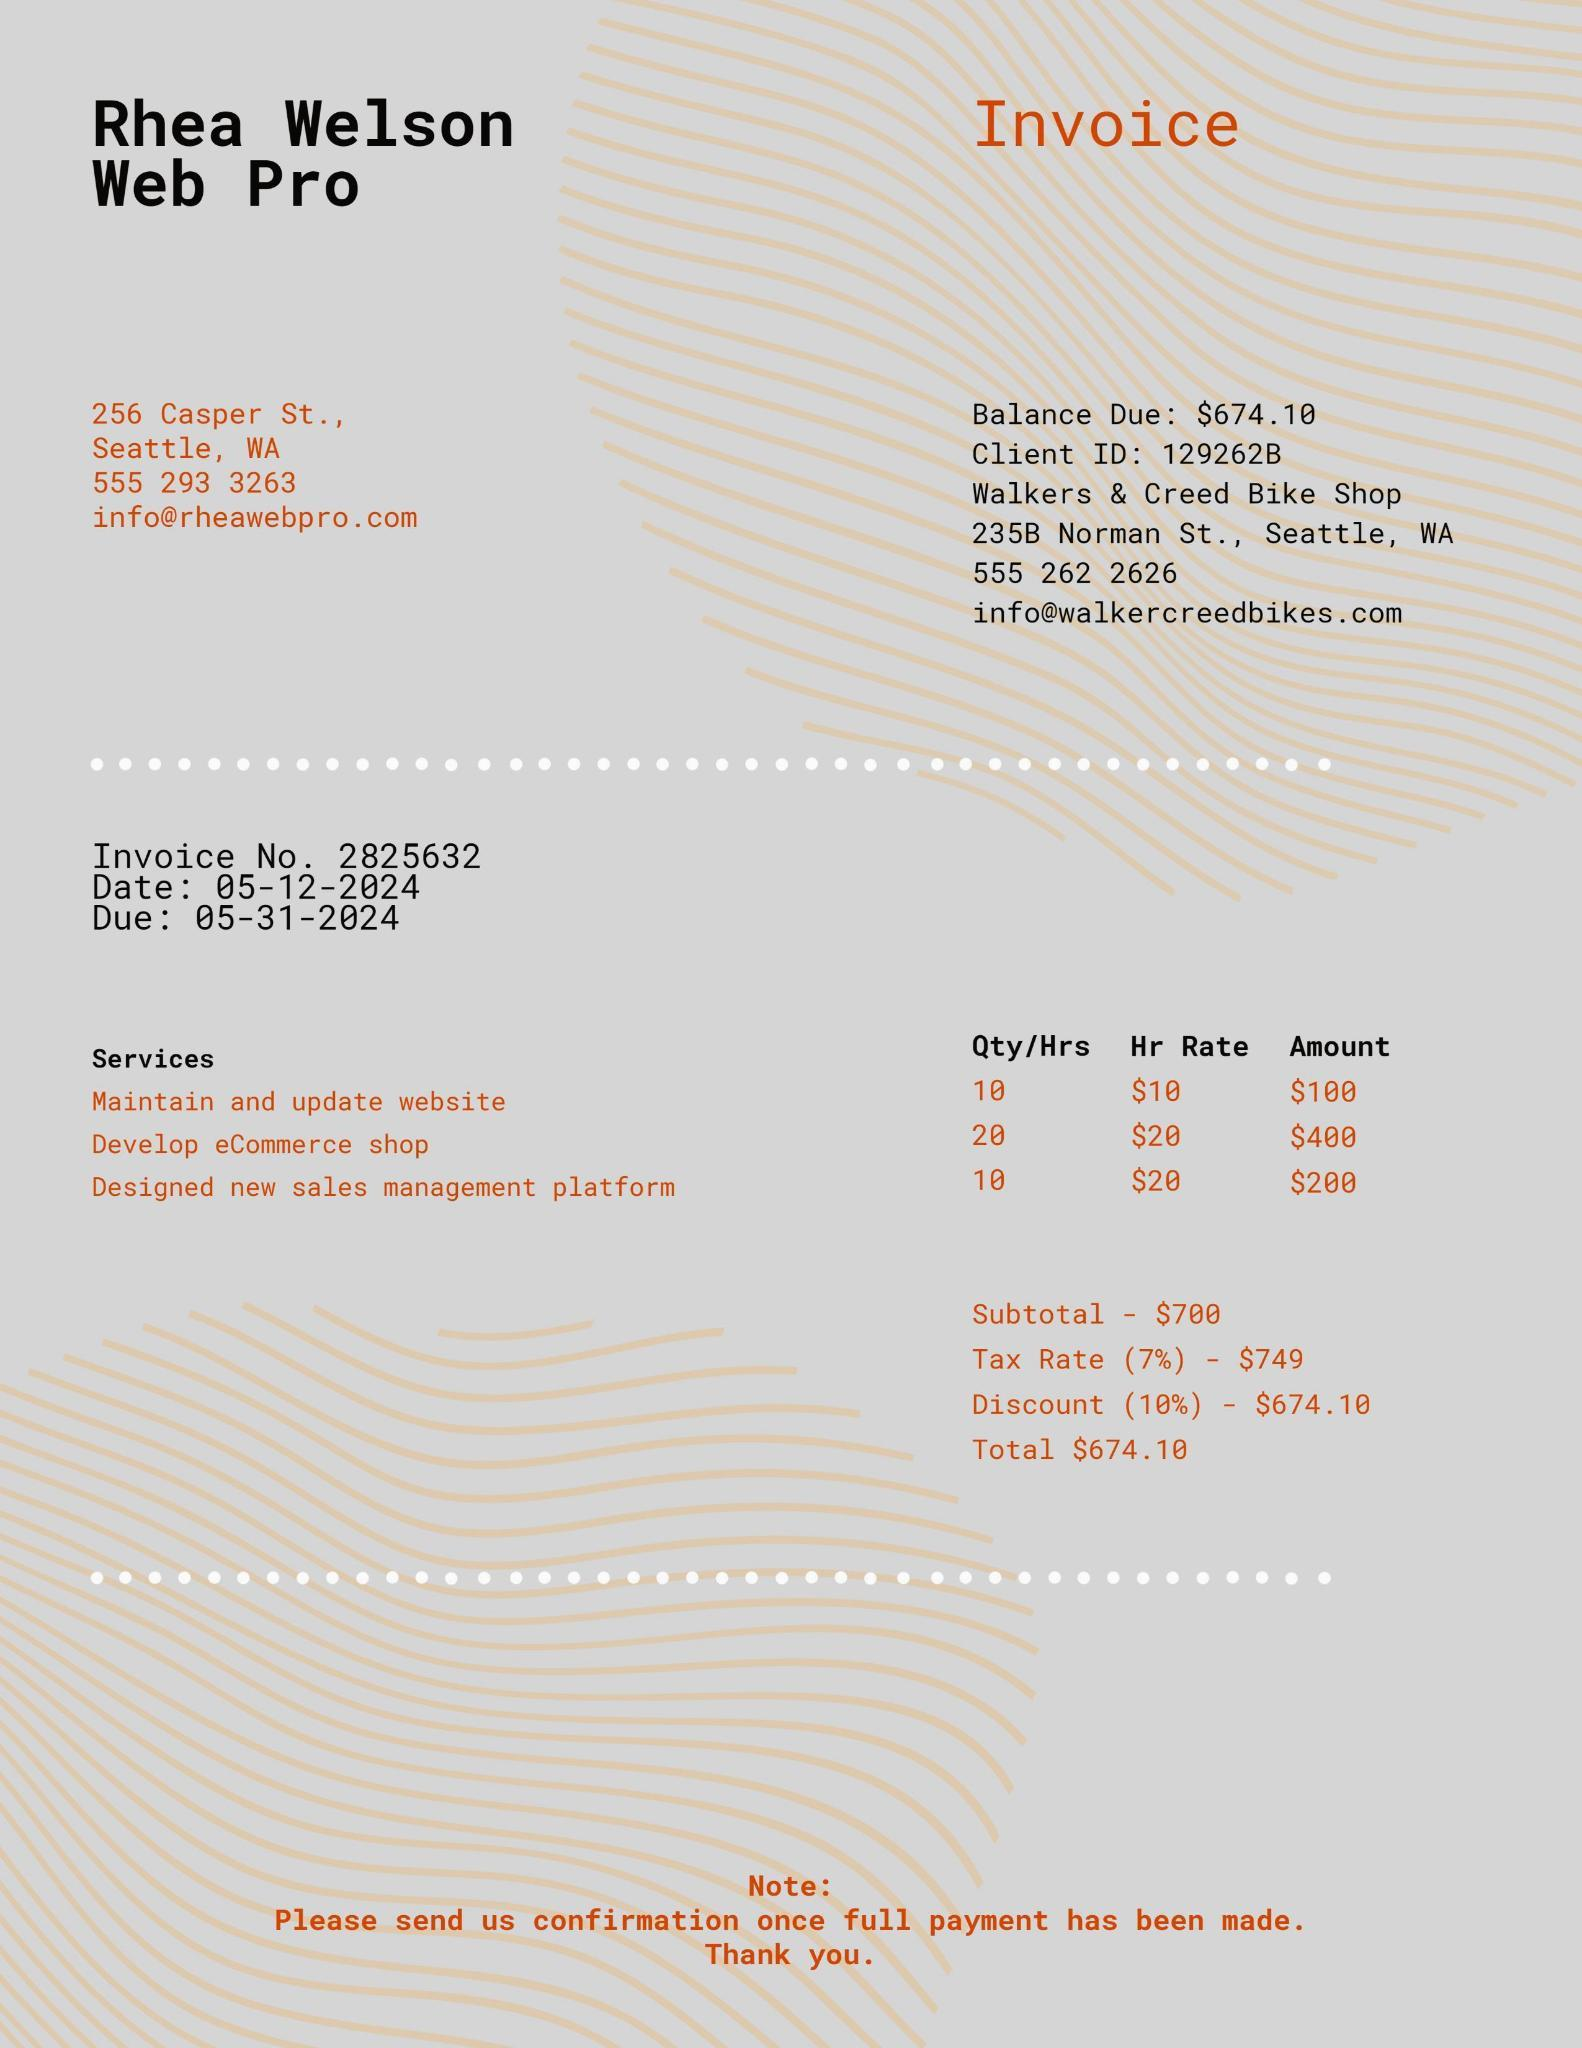ROI: (65, 1026, 1409, 1216), (243, 1839, 1346, 2011), (934, 360, 1477, 663), (937, 1277, 1388, 1498), (48, 61, 553, 228), (61, 807, 507, 972), (56, 365, 434, 553), (942, 50, 1260, 178)
